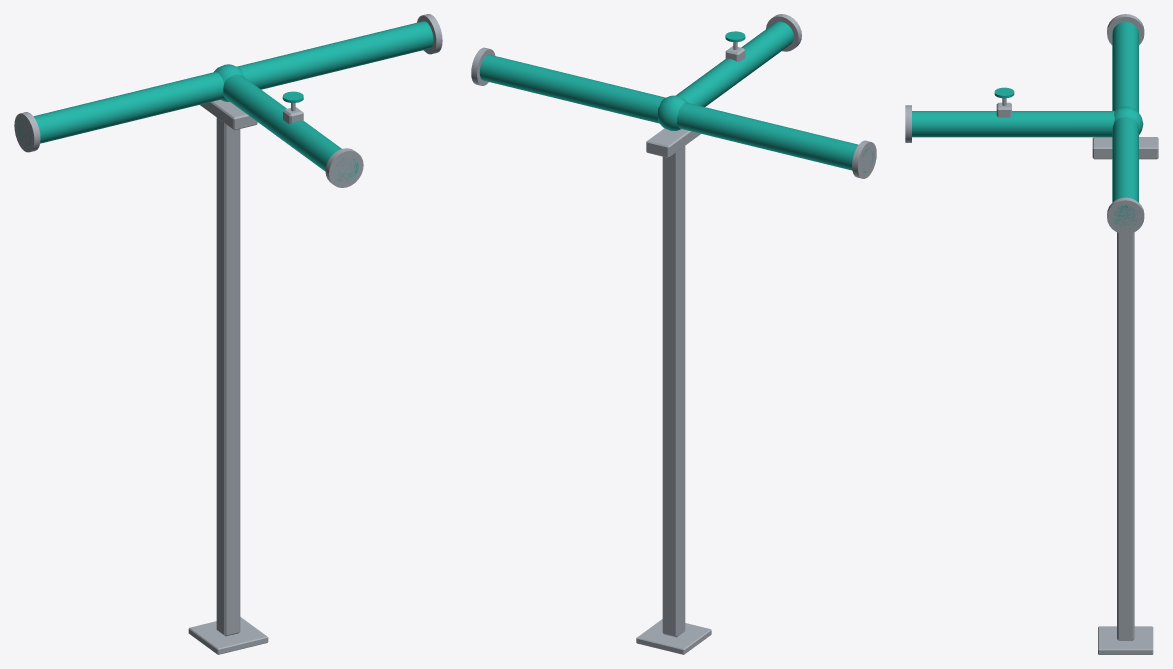
The model's file is pipe-run-tee.glb.
The picture shows the model from 3 angles, left to right: view 1: azimuth 30°, elevation 25°; view 2: azimuth 150°, elevation 25°; view 3: azimuth 270°, elevation 25°; orthographic projection. The views are drawn at different scales.
Parts seen in each view (by area): view 1: pipe-run-tee; view 2: pipe-run-tee; view 3: pipe-run-tee.
Part boxes in pixels (bbox=[...]): pipe-run-tee: bbox=[14, 14, 442, 654]; pipe-run-tee: bbox=[471, 14, 876, 654]; pipe-run-tee: bbox=[905, 14, 1158, 654].
Size of the model in its own units: 2 by 2.76 by 1.15.
